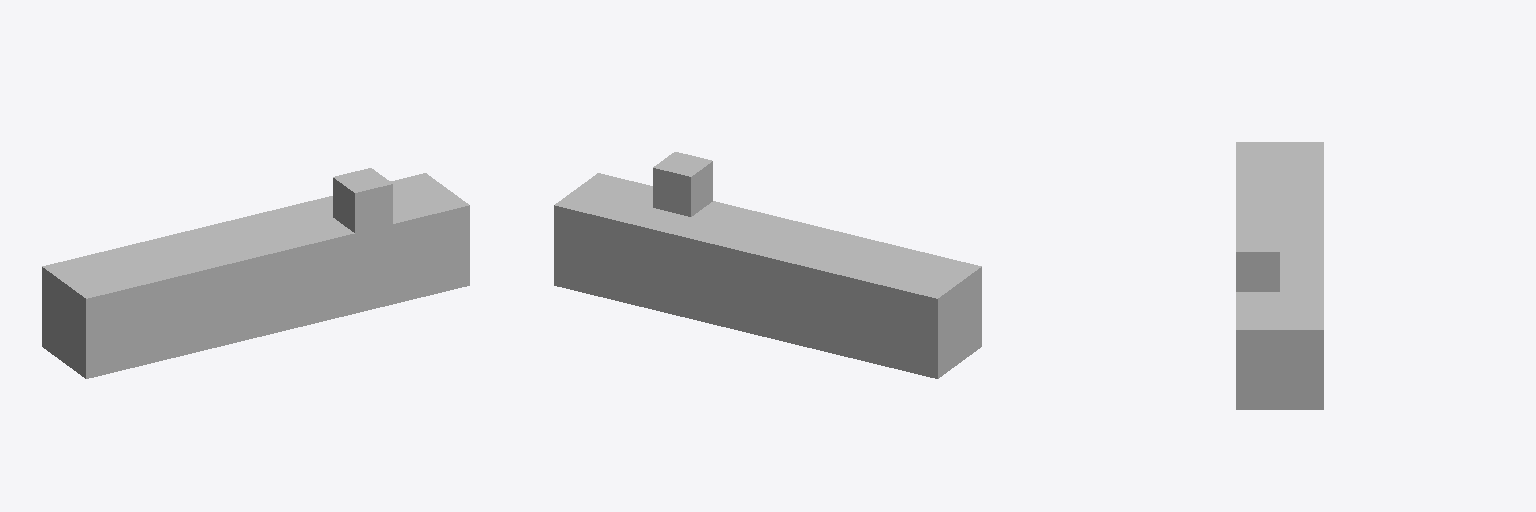
File: Tronco 1.obj
3 views of the same model, side by side, from view 1: azimuth 30°, elevation 25°; view 2: azimuth 150°, elevation 25°; view 3: azimuth 270°, elevation 25° (orthographic).
Parts seen in each view (by area): view 1: object 1; view 2: object 1; view 3: object 1.
Part boxes in pixels (left/top/right/bottom): object 1: left=42, top=168, right=469, bottom=378; object 1: left=554, top=152, right=981, bottom=378; object 1: left=1236, top=142, right=1323, bottom=409.
Bounding box in the file's own units: 1 × 0.3 × 0.2.